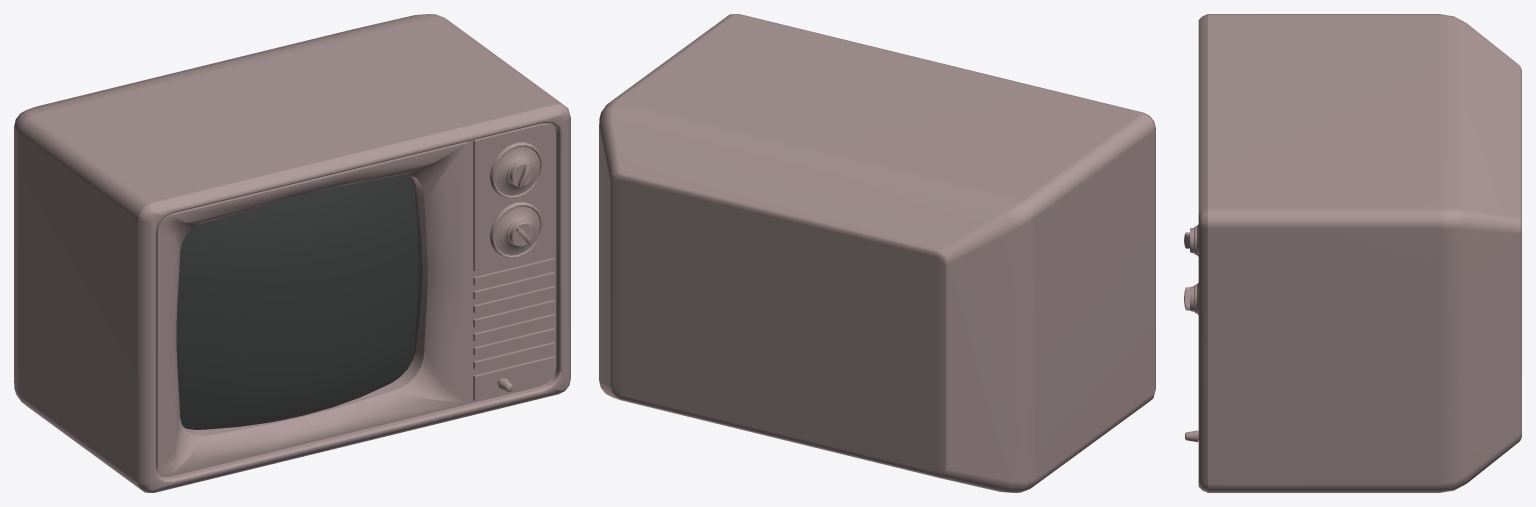
File: SM_TV_70S_A_Medium.fbx
The picture shows the model from 3 angles, left to right: view 1: azimuth 30°, elevation 25°; view 2: azimuth 150°, elevation 25°; view 3: azimuth 270°, elevation 25°; orthographic projection. The views are drawn at different scales.
Parts seen in each view (by area): view 1: SM_Television_70_A, SM_Glass; view 2: SM_Television_70_A; view 3: SM_Television_70_A.
Part boxes in pixels (x1,y1,x2,y2): SM_Television_70_A: [14, 14, 570, 492]; SM_Glass: [176, 175, 422, 429]; SM_Television_70_A: [599, 14, 1155, 492]; SM_Television_70_A: [1184, 14, 1521, 492].
Size of the model in its own units: 2127 by 1364 by 1474.
